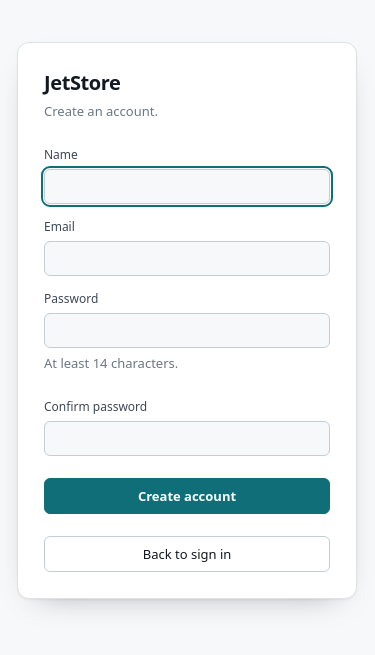
Test: the screen › surfaces the server's refusal
In the field labelled "Name": {"x": 187, "y": 186} x1=44 y1=168 x2=330 y2=204, type "Michel"
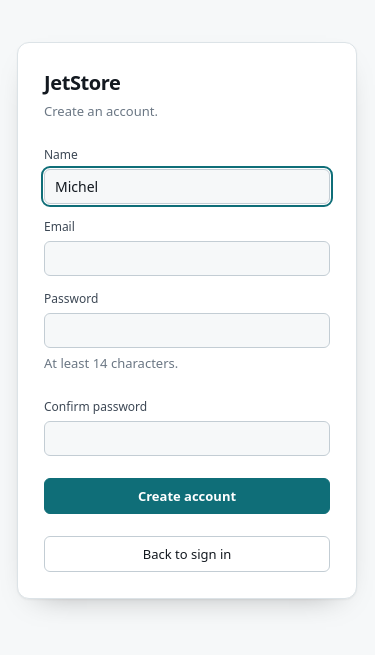
In the field labelled "Email": {"x": 187, "y": 258} x1=44 y1=240 x2=330 y2=276, type "a@b.co"
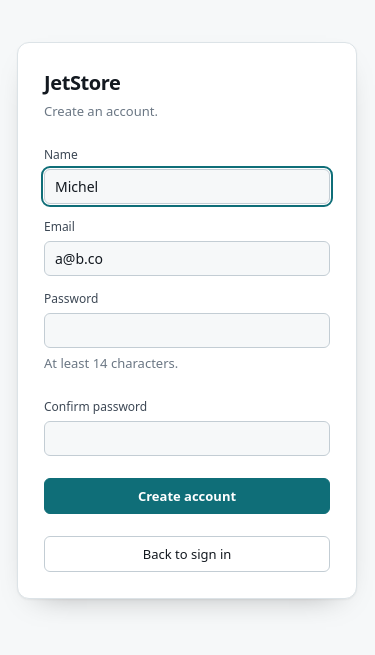
In the password field labelled "Password": {"x": 187, "y": 330} x1=44 y1=312 x2=330 y2=348, type "correct-horse-battery"
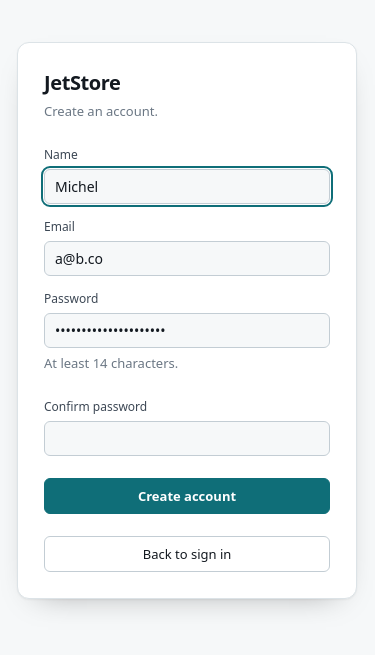
In the password field labelled "Confirm password": {"x": 187, "y": 438} x1=44 y1=420 x2=330 y2=456, type "correct-horse-battery"
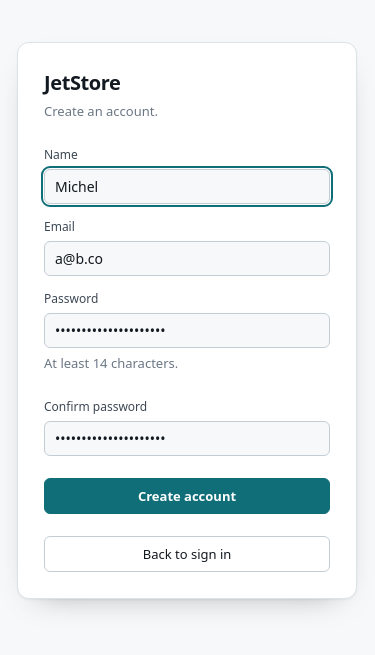
Click the button "Create account": {"x": 187, "y": 496} x1=44 y1=478 x2=330 y2=514
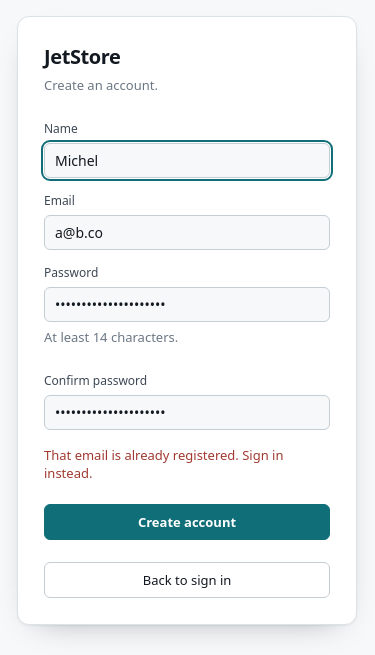
Expected: the message shows "already registered", x1=44 y1=446 x2=284 y2=482
